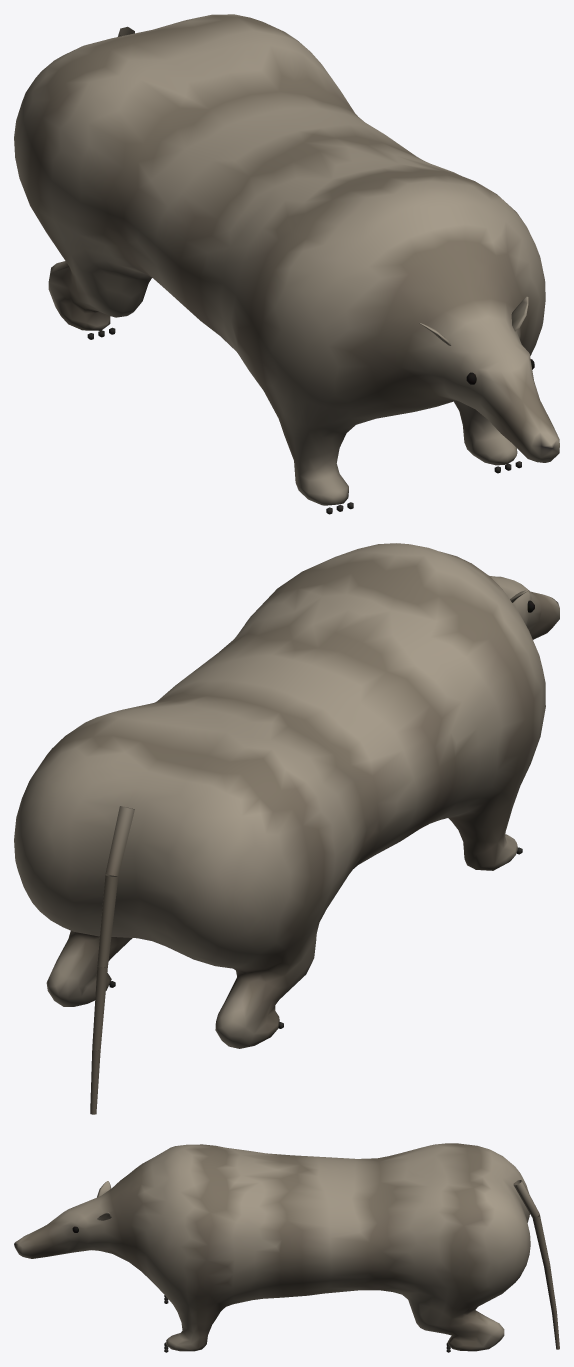
Rendered from guerteltier.glb.
The picture shows the model from 3 angles, top to bottom: view 1: azimuth 30°, elevation 25°; view 2: azimuth 150°, elevation 25°; view 3: azimuth 270°, elevation 25°; orthographic projection. The views are drawn at different scales.
Visible parts, largest first — view 1: lack; view 2: lack; view 3: lack.
Boxes of the visible parts, bbox=[...] form: lack: bbox=[14, 14, 559, 514]; lack: bbox=[14, 543, 559, 1114]; lack: bbox=[14, 1143, 559, 1352].
Bounding box in the file's own units: 0.2339 × 0.2589 × 0.6548.
